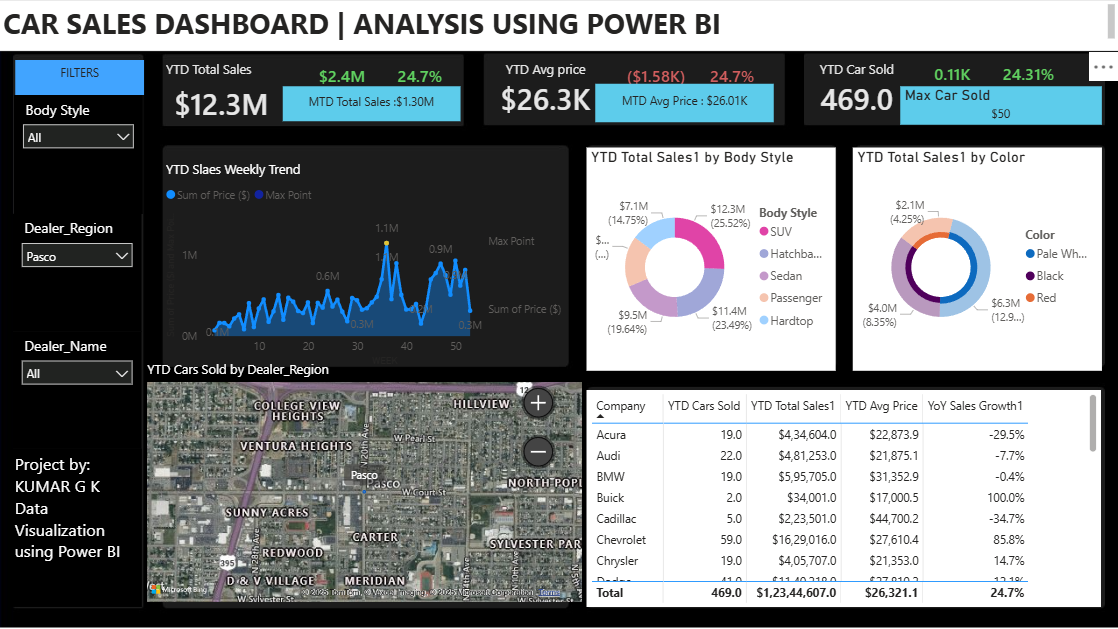

This screenshot's page, from the dashboard's own definition file:
{"tool":"powerbi","page":{"name":"Page 1","canvas":[1280,720],"ordinal":0},"visuals":[{"type":"card","title":"YTD Total Sales","fields":{"Values":["car_data.YTD Total Sales1"]},"box":[185.7,68.6,137.1,80],"z":0},{"type":"card","fields":{"Values":["car_data.Sales Different2"]},"box":[322.9,68.6,138.6,40],"z":1000},{"type":"card","fields":{"Values":["car_data.YoY Sales Growth1"]},"box":[425.7,68.6,111.4,40],"z":2000},{"type":"card","fields":{"Values":["car_data.MTD KPI"]},"box":[324.3,98.6,202.9,40],"z":3000},{"type":"card","title":"     YTD Avg price","fields":{"Values":["car_data.YTD Avg Price"]},"box":[553.5,69,143.7,69],"z":4000},{"type":"card","fields":{"Values":["car_data.Avg Price Diff"]},"box":[681.7,69,139.4,39.4],"z":5000},{"type":"card","fields":{"Values":["car_data.YoY Sales Growth1"]},"box":[769,69,139.4,39.4],"z":6000},{"type":"card","fields":{"Values":["car_data.MTD Avg Price KPI"]},"box":[681.7,95.8,204.2,43.7],"z":7000},{"type":"card","title":"     YTD Car Sold","fields":{"Values":["car_data.YTD Cars Sold"]},"box":[908.5,69,143.7,69],"z":8000},{"type":"card","fields":{"Values":["car_data.Cars Sold Diff"]},"box":[1019.7,59.2,139.4,56.3],"z":9000},{"type":"card","fields":{"Values":["car_data.YoY Car Solds Growth"]},"box":[1107,59.2,139.4,56.3],"z":10000},{"type":"card","title":"Max Car Sold","fields":{"Values":["car_data.MTD Cars Sold KPI"]},"box":[1030,98.6,230,44.3],"z":11000},{"type":"areaChart","title":"YTD Slaes Weekly Trend","fields":{"Category":["Calender Table.WEEK"],"Y":["Sum(car_data.Price ($))","car_data.Max Point"]},"box":[186.2,182.5,465,241.2],"z":12000},{"type":"donutChart","fields":{"Category":["car_data.Body Style"],"Y":["car_data.YTD Total Sales1"]},"box":[671.2,168.8,285,255],"z":13000},{"type":"donutChart","fields":{"Y":["car_data.YTD Total Sales1"],"Category":["car_data.Color"]},"box":[975,168.8,285,255],"z":14000},{"type":"map","fields":{"Category":["car_data.Dealer_Region"],"Size":["car_data.YTD Cars Sold"]},"box":[165,411.7,506.7,281.7],"z":15000},{"type":"tableEx","fields":{"Values":["car_data.Company","car_data.YTD Cars Sold","car_data.YTD Total Sales1","car_data.YTD Avg Price","car_data.YoY Sales Growth1"]},"box":[671.7,445,588.3,248.3],"z":16000},{"type":"textbox","box":[0,0,1280,58.3],"z":17000},{"type":"slicer","fields":{"Values":["car_data.Body Style"]},"box":[17.1,108.6,147.1,135.7],"z":18000},{"type":"slicer","fields":{"Values":["car_data.Dealer_Region"]},"box":[15.7,244.3,147.1,134.3],"z":18001},{"type":"slicer","fields":{"Values":["car_data.Dealer_Name"]},"box":[15.7,378.6,147.1,134.3],"z":18002},{"type":"textbox","box":[18.6,68.6,147.1,40],"z":18003},{"type":"textbox","box":[13,513,150,181],"z":18004}]}

Visuals, with their boxes in screenshot pixels (x1, y1, x2, y2), scaled from the page's 1280x720 canvas onto the 1118x629 screenshot:
"YTD Total Sales" card: {"left": 162, "top": 60, "right": 282, "bottom": 130}
card - car_data.Sales Different2: {"left": 282, "top": 60, "right": 403, "bottom": 95}
card - car_data.YoY Sales Growth1: {"left": 372, "top": 60, "right": 469, "bottom": 95}
card - car_data.MTD KPI: {"left": 283, "top": 86, "right": 460, "bottom": 121}
"     YTD Avg price" card: {"left": 483, "top": 60, "right": 609, "bottom": 121}
card - car_data.Avg Price Diff: {"left": 595, "top": 60, "right": 717, "bottom": 95}
card - car_data.YoY Sales Growth1: {"left": 672, "top": 60, "right": 793, "bottom": 95}
card - car_data.MTD Avg Price KPI: {"left": 595, "top": 84, "right": 774, "bottom": 122}
"     YTD Car Sold" card: {"left": 794, "top": 60, "right": 919, "bottom": 121}
card - car_data.Cars Sold Diff: {"left": 891, "top": 52, "right": 1012, "bottom": 101}
card - car_data.YoY Car Solds Growth: {"left": 967, "top": 52, "right": 1089, "bottom": 101}
"Max Car Sold" card: {"left": 900, "top": 86, "right": 1101, "bottom": 125}
"YTD Slaes Weekly Trend" areaChart: {"left": 163, "top": 159, "right": 569, "bottom": 370}
donutChart - car_data.Body Style x car_data.YTD Total Sales1: {"left": 586, "top": 147, "right": 835, "bottom": 370}
donutChart - car_data.YTD Total Sales1 x car_data.Color: {"left": 852, "top": 147, "right": 1101, "bottom": 370}
map - car_data.Dealer_Region x car_data.YTD Cars Sold: {"left": 144, "top": 360, "right": 587, "bottom": 606}
tableEx - car_data.Company x car_data.YTD Cars Sold: {"left": 587, "top": 389, "right": 1101, "bottom": 606}
textbox: {"left": 0, "top": 0, "right": 1117, "bottom": 51}
slicer - car_data.Body Style: {"left": 15, "top": 95, "right": 143, "bottom": 213}
slicer - car_data.Dealer_Region: {"left": 14, "top": 213, "right": 142, "bottom": 331}
slicer - car_data.Dealer_Name: {"left": 14, "top": 331, "right": 142, "bottom": 448}
textbox: {"left": 16, "top": 60, "right": 145, "bottom": 95}
textbox: {"left": 11, "top": 448, "right": 142, "bottom": 606}
